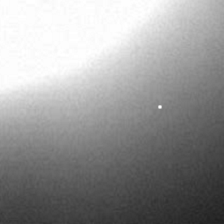Target: (157, 103, 164, 110)
